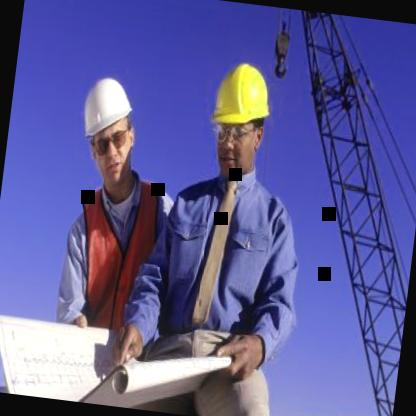helmet: (198, 42, 280, 188), (69, 64, 147, 199)
